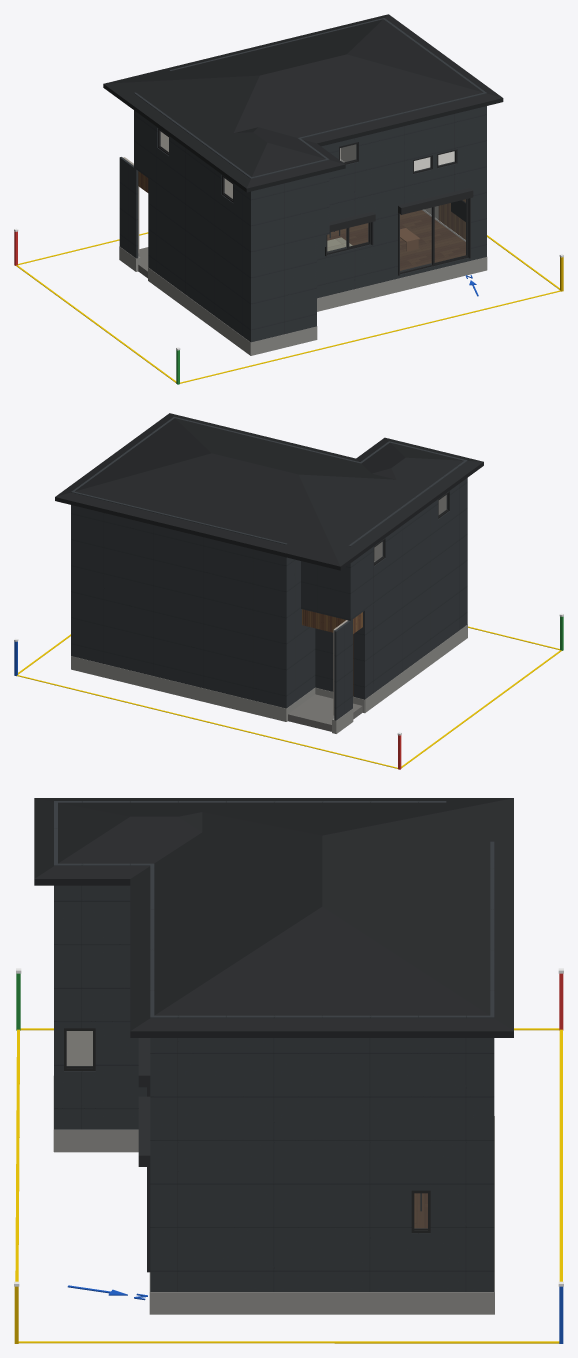
The model's file is B_22_flat.glb.
3 renders of one model, top to bottom at view 1: azimuth 30°, elevation 25°; view 2: azimuth 150°, elevation 25°; view 3: azimuth 270°, elevation 25°, orthographic. The views are drawn at different scales.
Parts seen in each view (by area): view 1: siding, roof, found, glass, floor, shutter, frame, lotline, wall, accent; view 2: siding, roof, found, lotline, tile, woodceil, wall; view 3: siding, roof, found, lotline, shutter, glass, wall, frame.
Part boxes in pixels (x1,y1,x2,y2): siding: (119, 18, 486, 342); roof: (103, 14, 503, 192); found: (119, 246, 487, 355); glass: (160, 132, 465, 271); floor: (327, 210, 465, 270); shutter: (325, 188, 473, 275); frame: (158, 128, 468, 274); lotline: (16, 232, 560, 383); wall: (123, 131, 438, 253); accent: (438, 199, 465, 239); siding: (71, 417, 467, 720); roof: (55, 413, 483, 570); found: (71, 624, 467, 733); lotline: (17, 626, 561, 768); tile: (288, 694, 362, 731); woodceil: (302, 609, 362, 633); wall: (333, 495, 446, 715); siding: (54, 801, 494, 1291); roof: (34, 798, 513, 1037); found: (53, 1076, 494, 1314); lotline: (15, 1028, 562, 1343); shutter: (138, 1038, 150, 1272); glass: (67, 1031, 427, 1227); wall: (66, 1031, 92, 1065); frame: (64, 1028, 430, 1233).
Bounding box in the file's own units: 14.14 × 7.01 × 10.42.
Materials: 31 (6 with a texture image).
